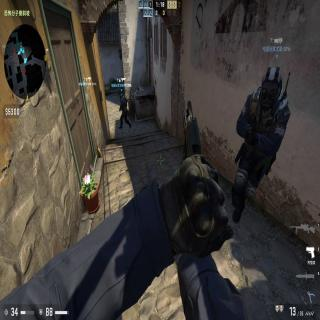CT-Body: (230, 65, 290, 223), (118, 93, 132, 130)
CT-Head: (259, 65, 282, 107), (120, 94, 124, 100)
